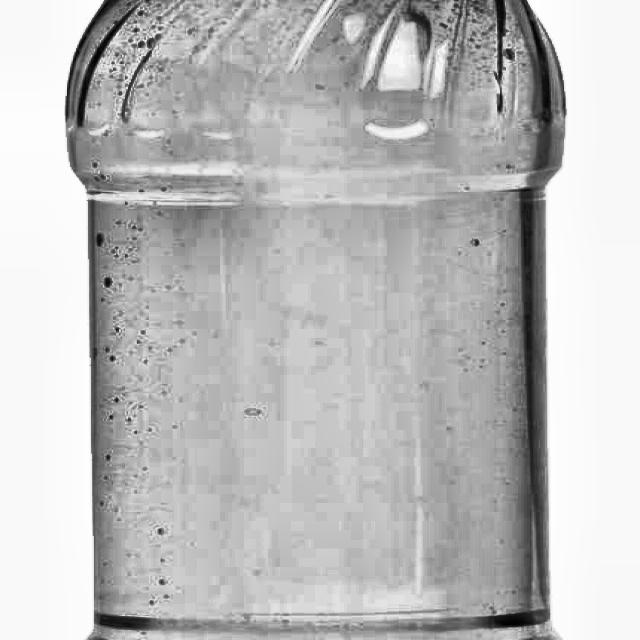bottle: (61, 0, 570, 640)
